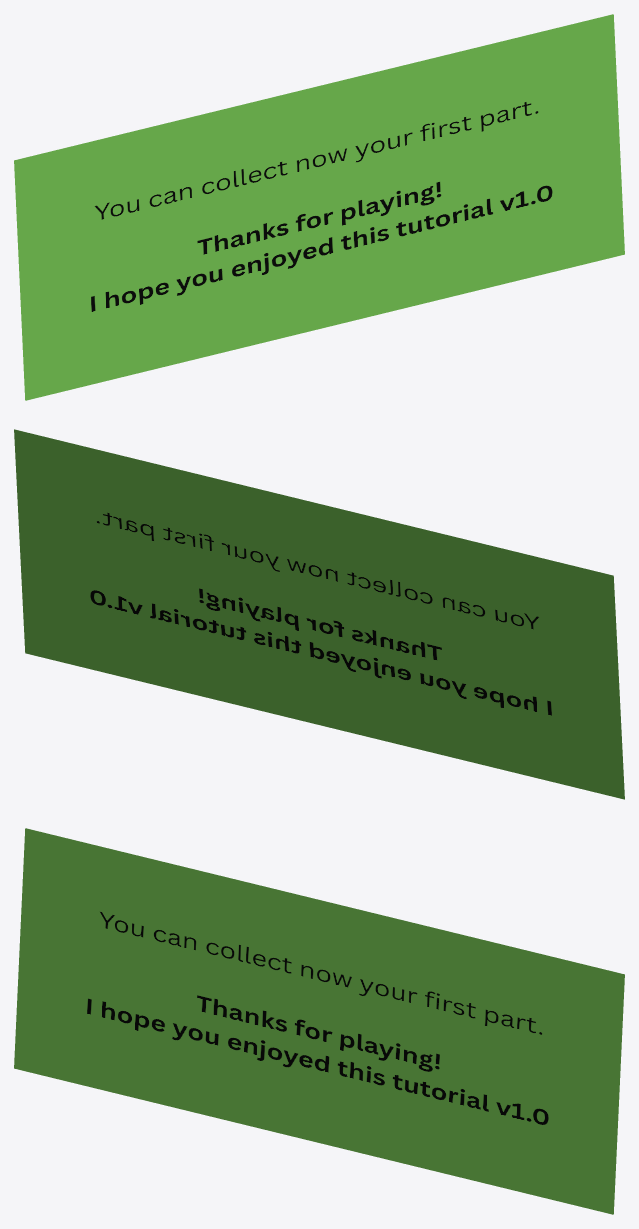
Rendered from ScreenHMI_Done.glb.
3 views of the same model, one above another, from view 1: azimuth 30°, elevation 25°; view 2: azimuth 150°, elevation 25°; view 3: azimuth 330°, elevation 25° (orthographic).
Visible parts, largest first — view 1: ScreenHMI_Done; view 2: ScreenHMI_Done; view 3: ScreenHMI_Done.
Part boxes in pixels (x1,y1,x2,y2): ScreenHMI_Done: (14, 14, 624, 400); ScreenHMI_Done: (14, 429, 624, 799); ScreenHMI_Done: (14, 828, 624, 1214).
Size of the model in its own units: 0.266 by 0.0984 by 0.00861.
1 material, 1 textured.
